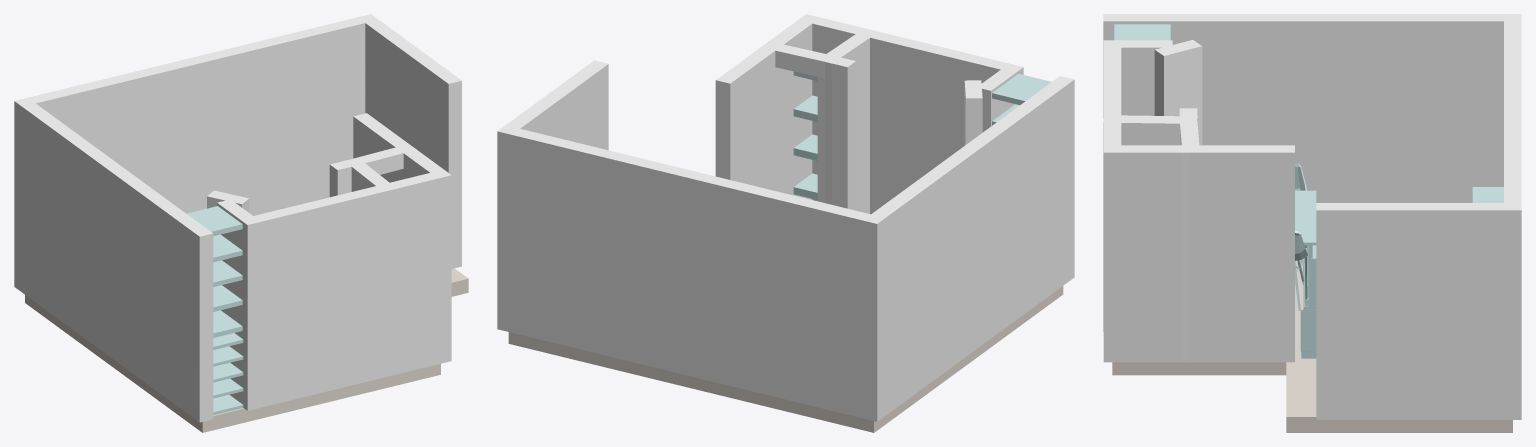
The picture shows the model from 3 angles, left to right: view 1: azimuth 30°, elevation 25°; view 2: azimuth 150°, elevation 25°; view 3: azimuth 270°, elevation 25°; orthographic projection. The views are drawn at different scales.
Visible parts, largest first — view 1: wall_C9F477E4_FB1C_4B08_B0E7_A6205A74D3C3, wall_37EF0CDF_AA05_4FA7_AB8F_E44F57CEAC8F, wall_B9067CE3_608C_482B_87F1_8B87D897B88C, window_C99C84F3_49B1_4B16_8713_B773B1DC60C7, window_65D752E8_3510_4867_A095_CFD646ECF32A, wall_5DD89ABF_3E8F_48DB_B0D6_CB6582A30BD3, wall_9B3638B3_0664_490A_8913_F83DF1E9444F, door_isOpen__false__FD3326DC_2648_4923_8E88_EABC6CE242EA, wall_8FF1B3DD_ACB2_4F3C_8B47_BE19376EFFA9, floor_EA39D220_EDB6_4EA6_AD79_22FE970A6262, wall_0FAAA372_EF6B_4ADF_B4A3_60B9A742A38E, Interiors.006 (+7 smaller); view 2: wall_C9F477E4_FB1C_4B08_B0E7_A6205A74D3C3, wall_37EF0CDF_AA05_4FA7_AB8F_E44F57CEAC8F, window_C99C84F3_49B1_4B16_8713_B773B1DC60C7, door_isOpen__false__FD3326DC_2648_4923_8E88_EABC6CE242EA, window_65D752E8_3510_4867_A095_CFD646ECF32A, wall_B9067CE3_608C_482B_87F1_8B87D897B88C, floor_EA39D220_EDB6_4EA6_AD79_22FE970A6262, wall_5DD89ABF_3E8F_48DB_B0D6_CB6582A30BD3, wall_7D0F23FE_44D5_4A9C_9737_58078F375591, wall_0FAAA372_EF6B_4ADF_B4A3_60B9A742A38E, wall_B56B7990_15D1_4ABC_9E7E_D58E8EB35536, wall_55DF55A9_2B3B_4594_BD4B_11A8711EF2AE (+7 smaller); view 3: wall_5DD89ABF_3E8F_48DB_B0D6_CB6582A30BD3, wall_37EF0CDF_AA05_4FA7_AB8F_E44F57CEAC8F, window_C99C84F3_49B1_4B16_8713_B773B1DC60C7, wall_0FAAA372_EF6B_4ADF_B4A3_60B9A742A38E, door_isOpen__false__9A5633DF_3EA6_4813_8BA5_F2B3BD6FFDCA, door_isOpen__false__A874015A_8D2E_4629_BD2C_6104747F8790, wall_7D0F23FE_44D5_4A9C_9737_58078F375591, floor_EA39D220_EDB6_4EA6_AD79_22FE970A6262, wall_7599C05B_D780_403C_9B54_C54170DE9579, wall_C9F477E4_FB1C_4B08_B0E7_A6205A74D3C3, wall_9B3638B3_0664_490A_8913_F83DF1E9444F, wall_8FF1B3DD_ACB2_4F3C_8B47_BE19376EFFA9 (+8 smaller).
Boxes of the visible parts, x1,y1,x2,y2 form: wall_C9F477E4_FB1C_4B08_B0E7_A6205A74D3C3: (15, 14, 376, 215); wall_37EF0CDF_AA05_4FA7_AB8F_E44F57CEAC8F: (14, 101, 213, 422); wall_B9067CE3_608C_482B_87F1_8B87D897B88C: (239, 185, 396, 410); window_C99C84F3_49B1_4B16_8713_B773B1DC60C7: (50, 158, 154, 328); window_65D752E8_3510_4867_A095_CFD646ECF32A: (279, 226, 369, 352); wall_5DD89ABF_3E8F_48DB_B0D6_CB6582A30BD3: (358, 14, 461, 268); wall_9B3638B3_0664_490A_8913_F83DF1E9444F: (383, 173, 441, 374); door_isOpen__false__FD3326DC_2648_4923_8E88_EABC6CE242EA: (301, 59, 358, 203); wall_8FF1B3DD_ACB2_4F3C_8B47_BE19376EFFA9: (217, 199, 260, 410); floor_EA39D220_EDB6_4EA6_AD79_22FE970A6262: (25, 268, 468, 432); wall_0FAAA372_EF6B_4ADF_B4A3_60B9A742A38E: (395, 144, 451, 364); Interiors.006: (187, 206, 242, 337); wall_C9F477E4_FB1C_4B08_B0E7_A6205A74D3C3: (497, 125, 885, 421); wall_37EF0CDF_AA05_4FA7_AB8F_E44F57CEAC8F: (862, 76, 1074, 420); window_C99C84F3_49B1_4B16_8713_B773B1DC60C7: (915, 147, 1026, 329); door_isOpen__false__FD3326DC_2648_4923_8E88_EABC6CE242EA: (518, 173, 579, 349); window_65D752E8_3510_4867_A095_CFD646ECF32A: (885, 74, 964, 189); wall_B9067CE3_608C_482B_87F1_8B87D897B88C: (860, 28, 1023, 214); floor_EA39D220_EDB6_4EA6_AD79_22FE970A6262: (508, 286, 1063, 432); wall_5DD89ABF_3E8F_48DB_B0D6_CB6582A30BD3: (497, 60, 608, 262); wall_7D0F23FE_44D5_4A9C_9737_58078F375591: (715, 42, 783, 192); wall_0FAAA372_EF6B_4ADF_B4A3_60B9A742A38E: (761, 14, 819, 199); wall_B56B7990_15D1_4ABC_9E7E_D58E8EB35536: (818, 57, 855, 210); wall_55DF55A9_2B3B_4594_BD4B_11A8711EF2AE: (817, 28, 878, 213); wall_5DD89ABF_3E8F_48DB_B0D6_CB6582A30BD3: (1316, 203, 1521, 419); wall_37EF0CDF_AA05_4FA7_AB8F_E44F57CEAC8F: (1103, 14, 1521, 202); window_C99C84F3_49B1_4B16_8713_B773B1DC60C7: (1204, 56, 1441, 162); wall_0FAAA372_EF6B_4ADF_B4A3_60B9A742A38E: (1103, 145, 1199, 362); door_isOpen__false__9A5633DF_3EA6_4813_8BA5_F2B3BD6FFDCA: (1197, 194, 1268, 362); door_isOpen__false__A874015A_8D2E_4629_BD2C_6104747F8790: (1368, 248, 1437, 419); wall_7D0F23FE_44D5_4A9C_9737_58078F375591: (1182, 145, 1294, 362); floor_EA39D220_EDB6_4EA6_AD79_22FE970A6262: (1112, 259, 1512, 432); wall_7599C05B_D780_403C_9B54_C54170DE9579: (1154, 40, 1202, 145); wall_C9F477E4_FB1C_4B08_B0E7_A6205A74D3C3: (1504, 14, 1521, 209); wall_9B3638B3_0664_490A_8913_F83DF1E9444F: (1103, 115, 1121, 361); wall_8FF1B3DD_ACB2_4F3C_8B47_BE19376EFFA9: (1103, 40, 1172, 115).
Size of the model in its own units: 5.26 by 2.83 by 4.74.
